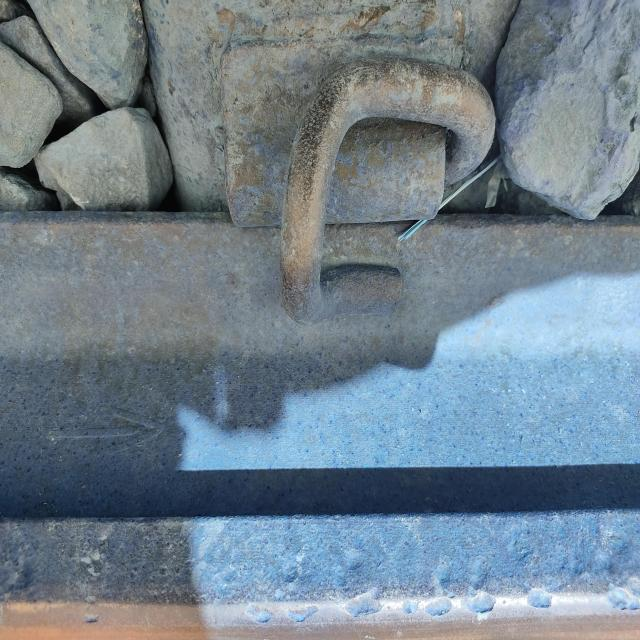Good Fasteners: (209, 16, 497, 351)
